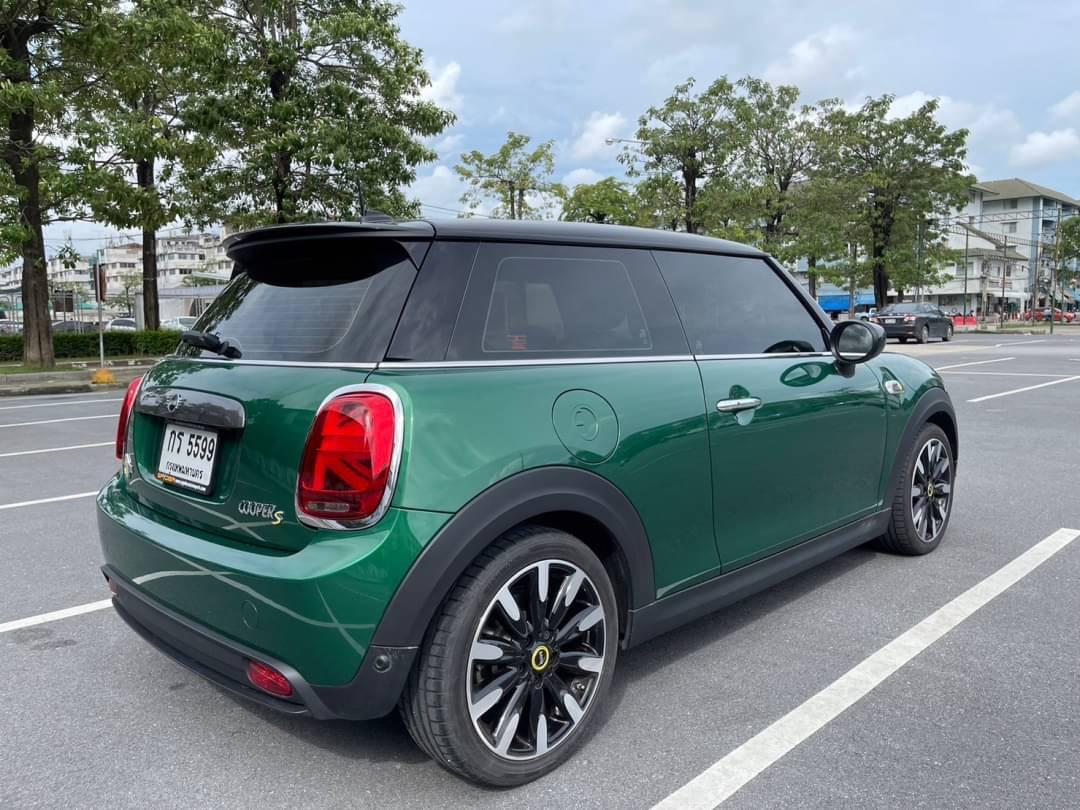license-plate: (154, 417, 227, 497)
